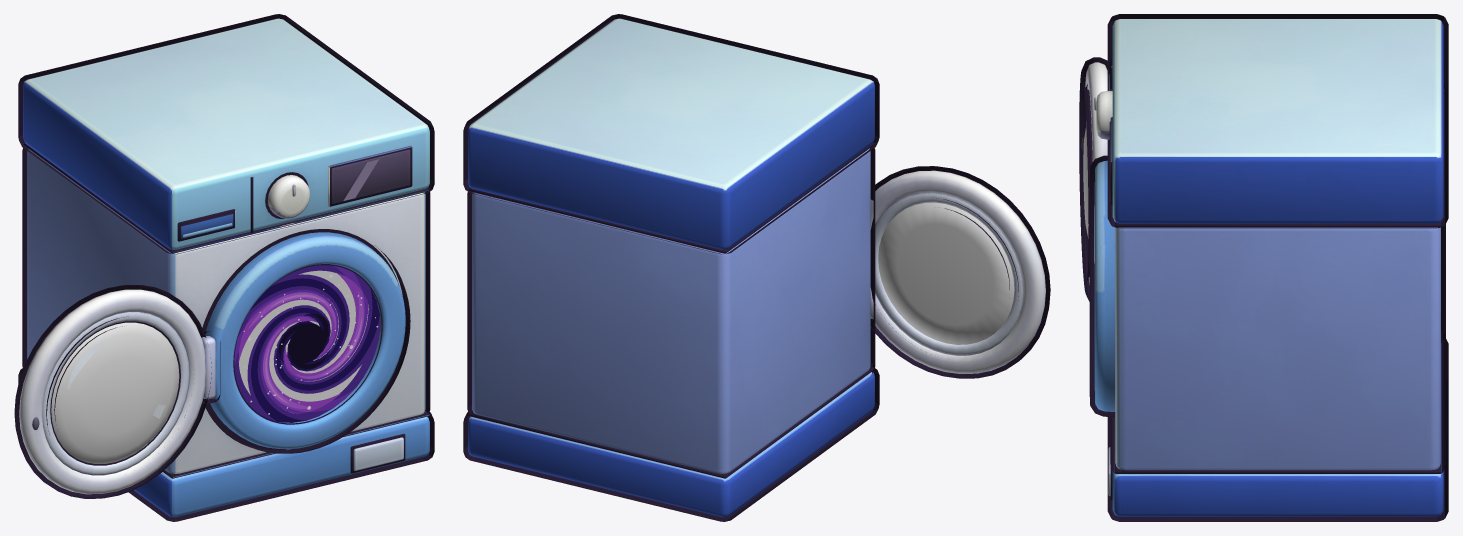
File: Dryer.glb
3 renders of one model, left to right at view 1: azimuth 30°, elevation 25°; view 2: azimuth 150°, elevation 25°; view 3: azimuth 270°, elevation 25°, orthographic. The views are drawn at different scales.
Visible parts, largest first — view 1: Dryer, DryerVortex, DryerGlass, Dryer_Outline, DryerPortal; view 2: Dryer, DryerGlass, Dryer_Outline; view 3: Dryer, Dryer_Outline, DryerGlass.
Part boxes in pixels (x1,y1,x2,y2): Dryer: (19, 18, 429, 517); DryerVortex: (234, 265, 380, 422); DryerGlass: (51, 322, 179, 463); Dryer_Outline: (14, 14, 434, 521); DryerPortal: (239, 270, 368, 413); Dryer: (468, 18, 1045, 517); DryerGlass: (878, 202, 1014, 344); Dryer_Outline: (463, 14, 1050, 521); Dryer: (1081, 19, 1443, 516); Dryer_Outline: (1079, 14, 1448, 521); DryerGlass: (1083, 126, 1088, 237).
Bounding box in the file's own units: 5.67 × 4.31 × 3.86.
Materials: 2 (2 with a texture image).
